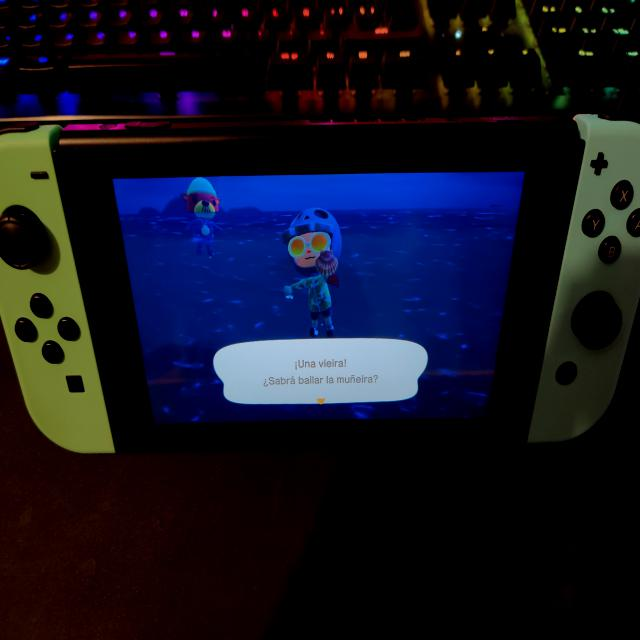text_bubble: (213, 337, 431, 407)
